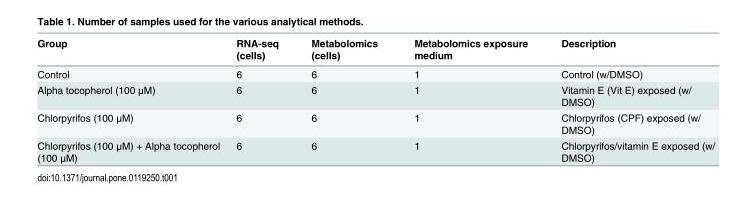table: (36, 36, 714, 162)
table column: (36, 36, 227, 162), (543, 36, 714, 162), (395, 36, 543, 162), (294, 36, 395, 162), (227, 36, 294, 162)
table column header: (36, 36, 714, 64)
table row: (36, 36, 714, 64), (36, 81, 714, 109), (36, 109, 714, 137), (36, 137, 714, 162), (36, 64, 714, 81)
